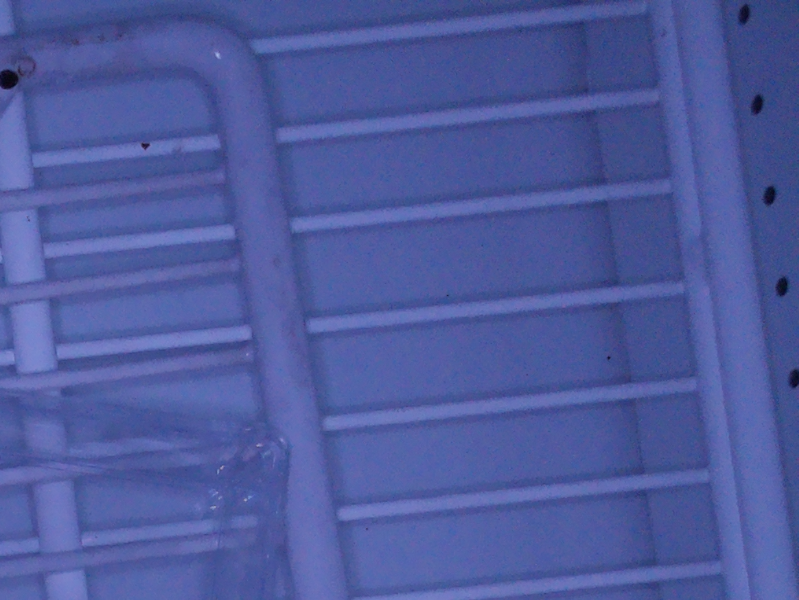plate: (1, 390, 297, 600)
